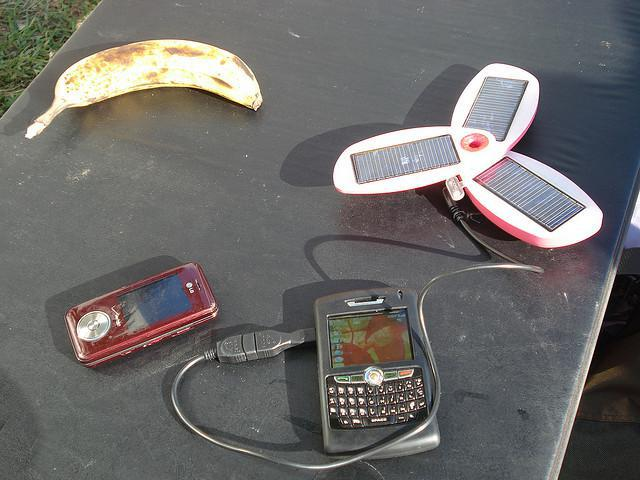phone: (315, 284, 443, 462), (60, 259, 222, 370)
